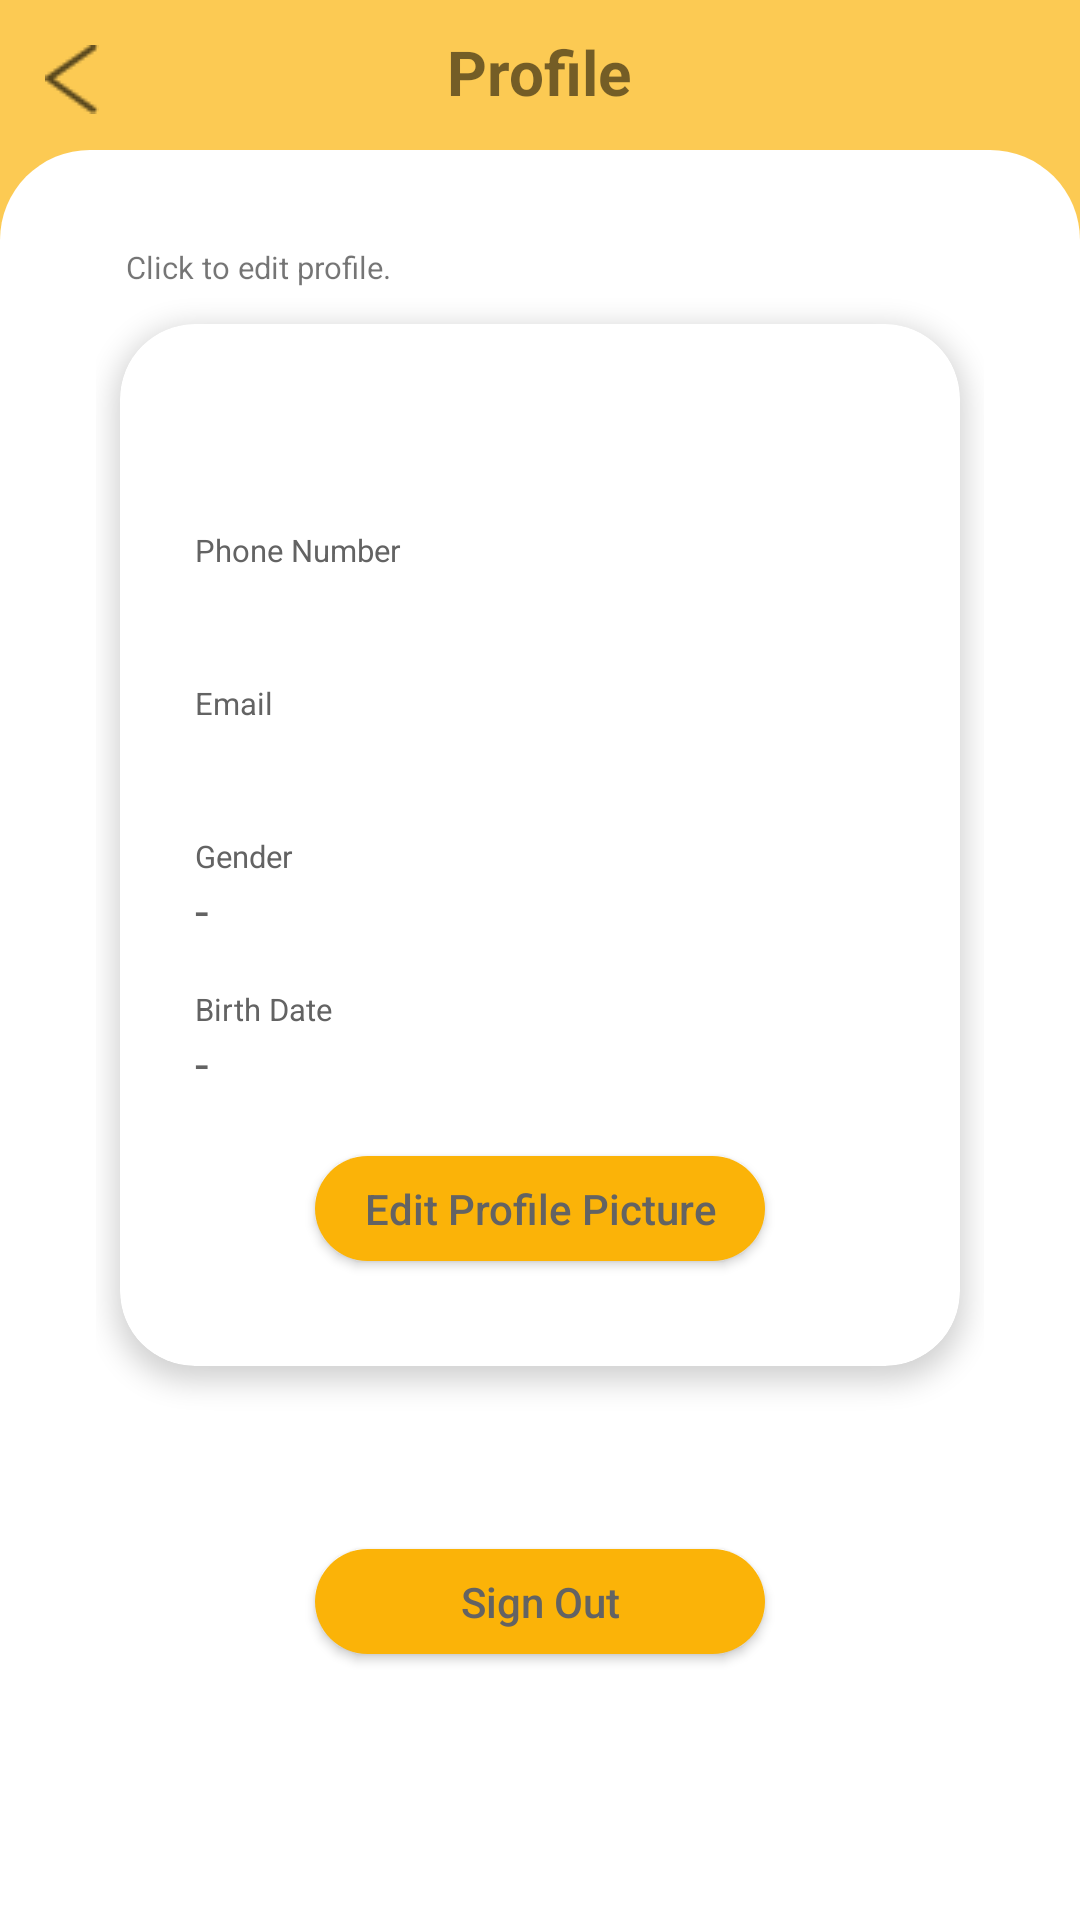

Point at icon controls on the screen. Image size 1080 x 1920, points as (x=x, y=y).
back: (x=71, y=79)
